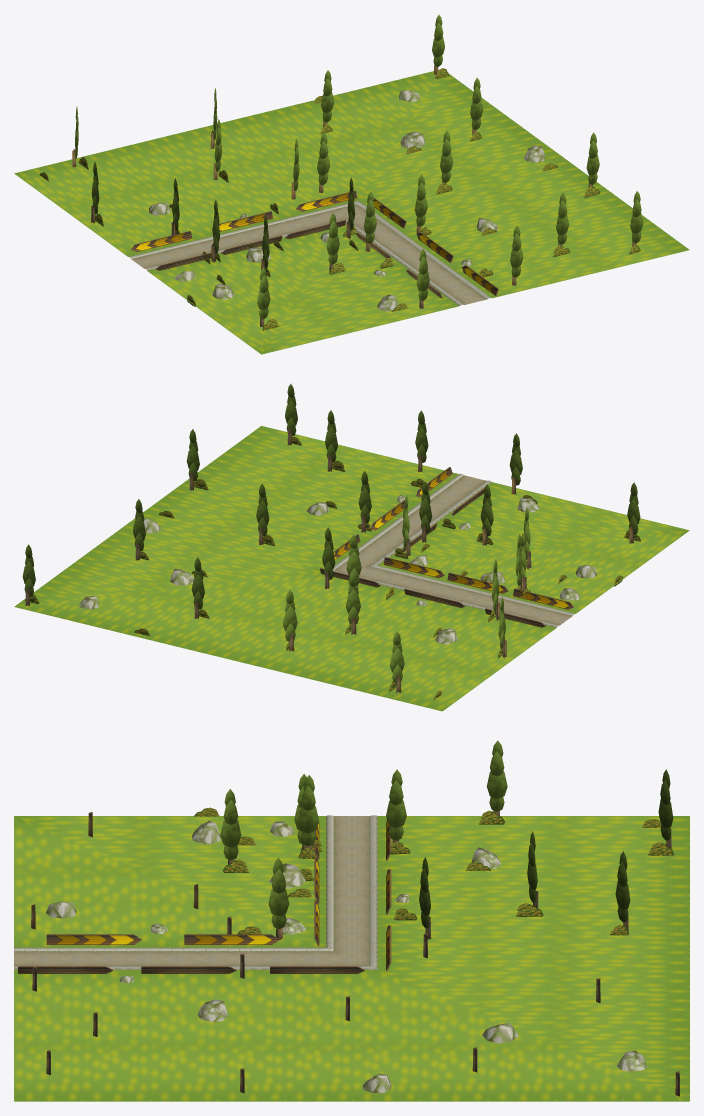
Rendered from VillageRoad01_Left.FBX.
3 views of the same model, one above another, from view 1: azimuth 30°, elevation 25°; view 2: azimuth 150°, elevation 25°; view 3: azimuth 270°, elevation 25° (orthographic). The views are drawn at different scales.
Visible parts, largest first — view 1: Road; view 2: Road, Tree (×17), Fence (×2); view 3: Road, Tree (×9), Fence (×5).
Boxes of the visible parts, bbox=[...] form: Road: bbox=[14, 71, 689, 354]; Road: bbox=[14, 426, 689, 711]; Tree (×17): bbox=[22, 384, 640, 693]; Fence (×2): bbox=[383, 557, 573, 609]; Road: bbox=[14, 815, 689, 1101]; Tree (×9): bbox=[220, 740, 673, 940]; Fence (×5): bbox=[18, 934, 364, 973].
Bounding box in the file's own units: 10000 × 1434 × 10000.
